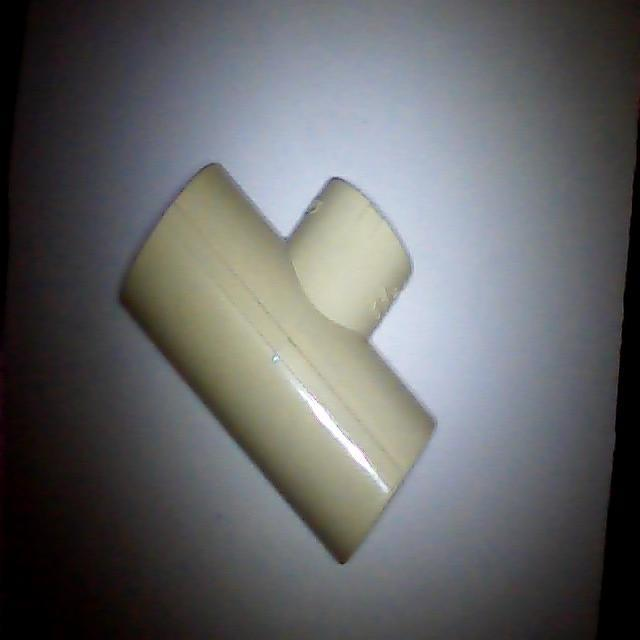T Joint: (117, 164, 438, 566)
